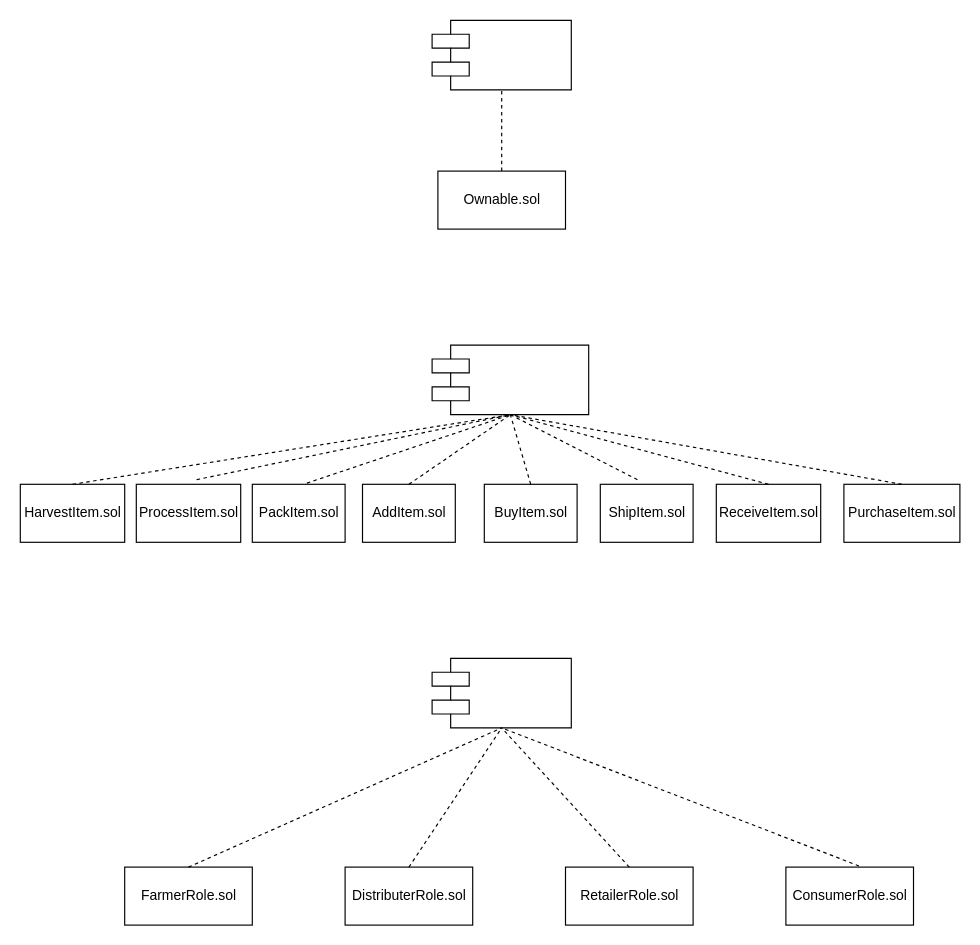
Image size: 980x945. Some labels were removed from this diagram. Each missing label, with the box of its shape:
Roles.sol: (431, 657, 571, 728)
SupplyChain.sol: (431, 344, 589, 415)
ValueChain: (431, 19, 571, 90)
